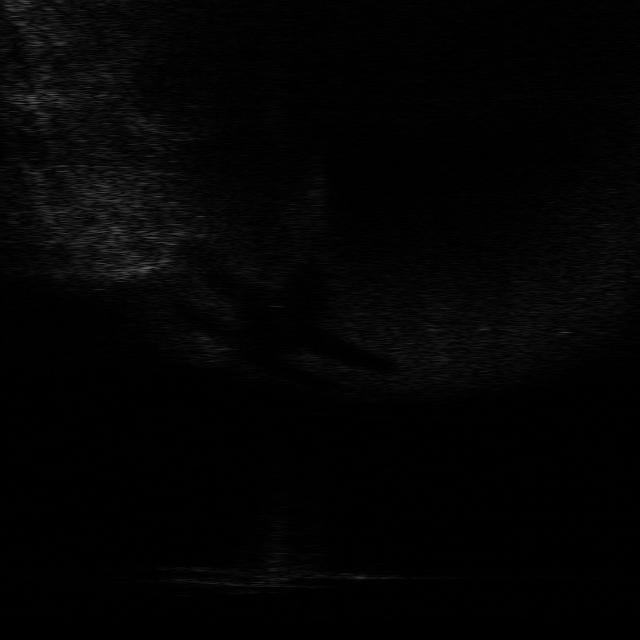plane: (162, 542, 408, 594)
